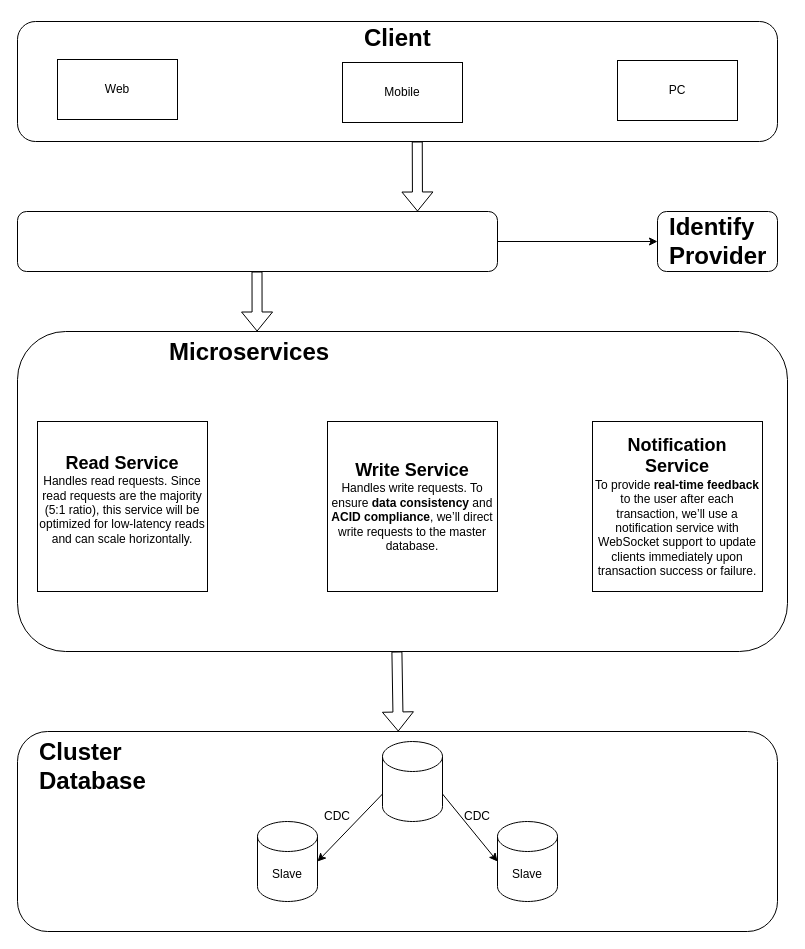
Image size: 805x949. Some labels were removed from this diagram. The box of each missing label's shape, as (x1, y1, x2, y2) in pixels:
API Gateway For routing and load balancing.: (16, 210, 498, 272)
Master: (382, 740, 442, 822)
